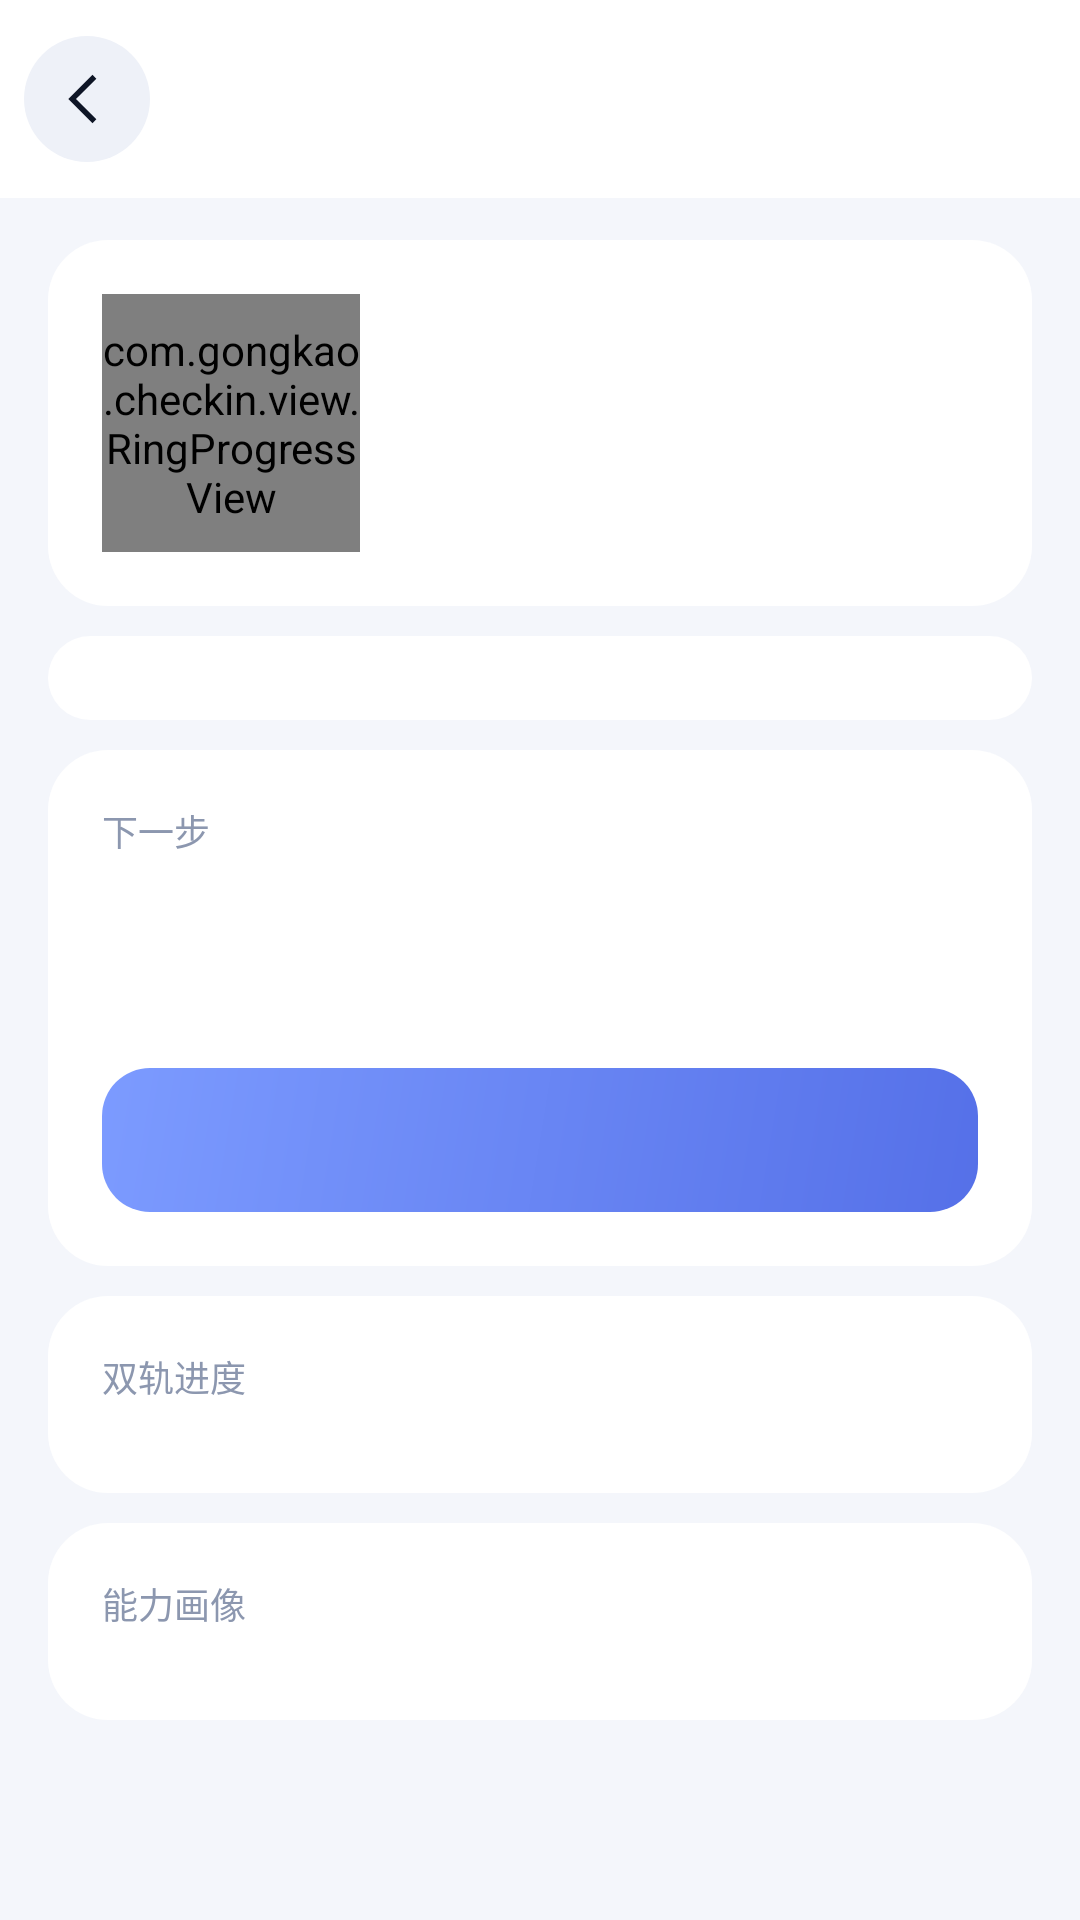

Where icons sit on this 1080w x 1920h app screen, as bbox=[x1, y1, x2, y2]:
返回: bbox=[24, 36, 150, 162]
